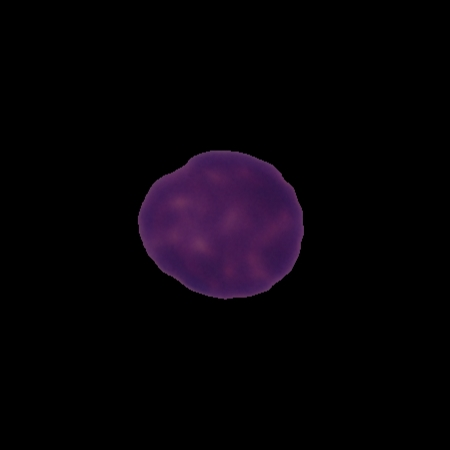HEM: (135, 147, 306, 301)
